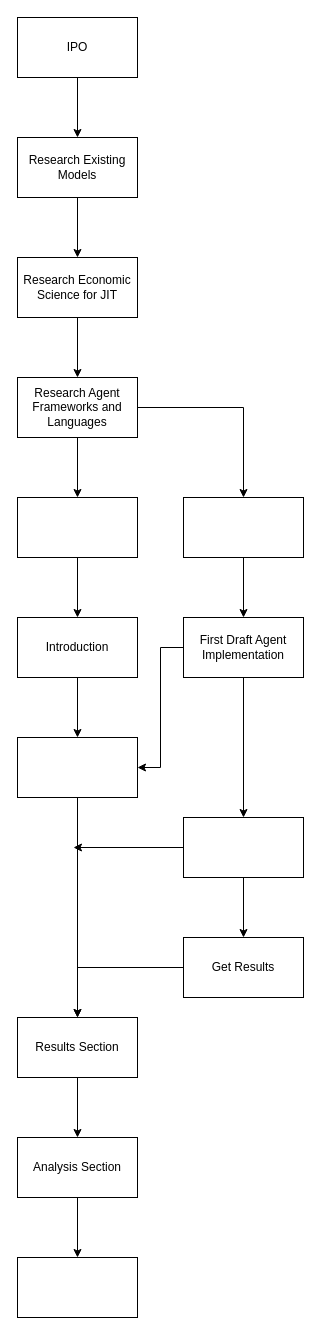
Some shapes in this 321 by 1335 pixel diagram are drawn without their labels. The shapes that lost their labels are listed below. From the top down, each one's centre as x and y in pixels, then its label:
the point at 77,527: Literature Review
the point at 243,527: Learn Elixir
the point at 77,767: Implementation Section
the point at 243,847: Improve Model
the point at 77,1287: Conclusion
